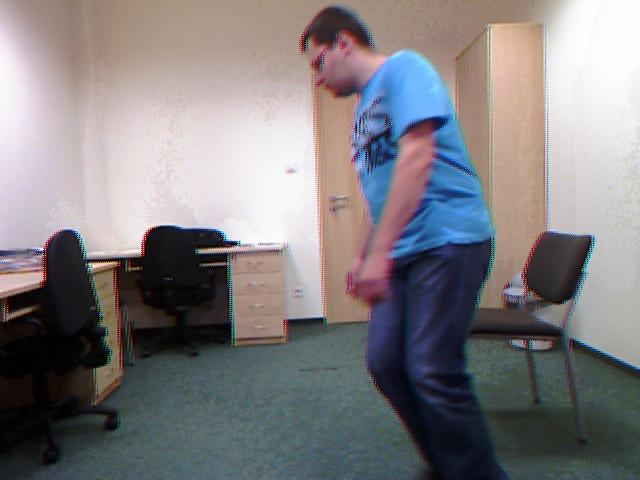near-fall: (292, 2, 519, 480)
